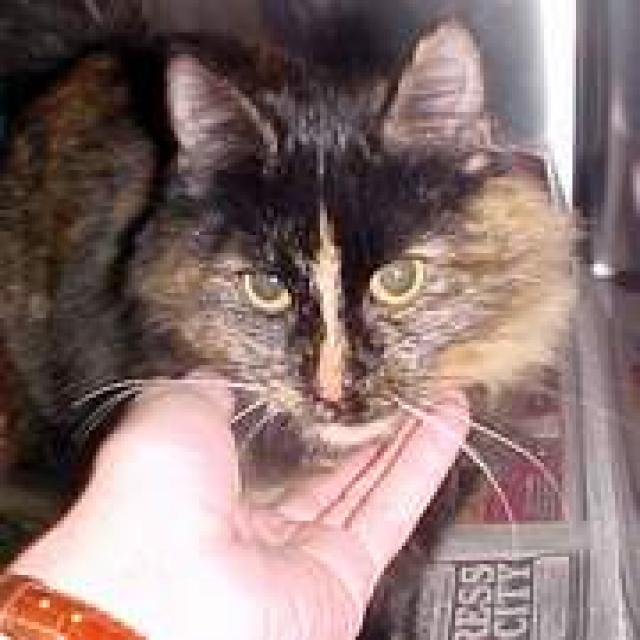cats: (1, 2, 577, 450)
